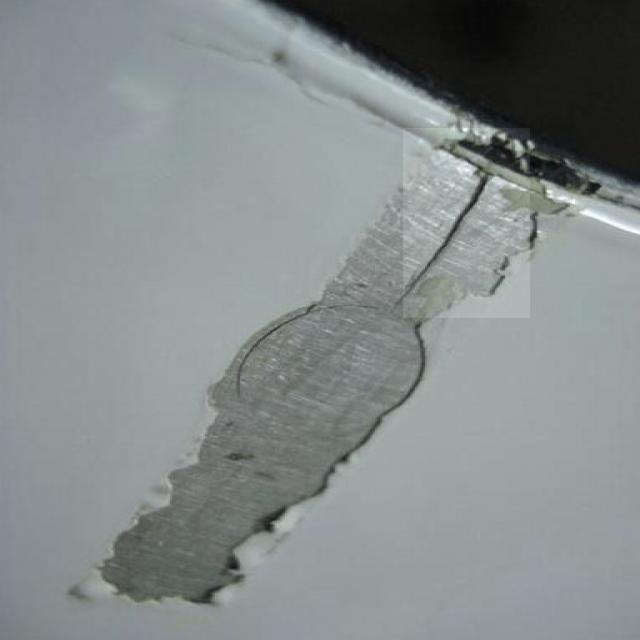crack: (404, 129, 531, 319)
